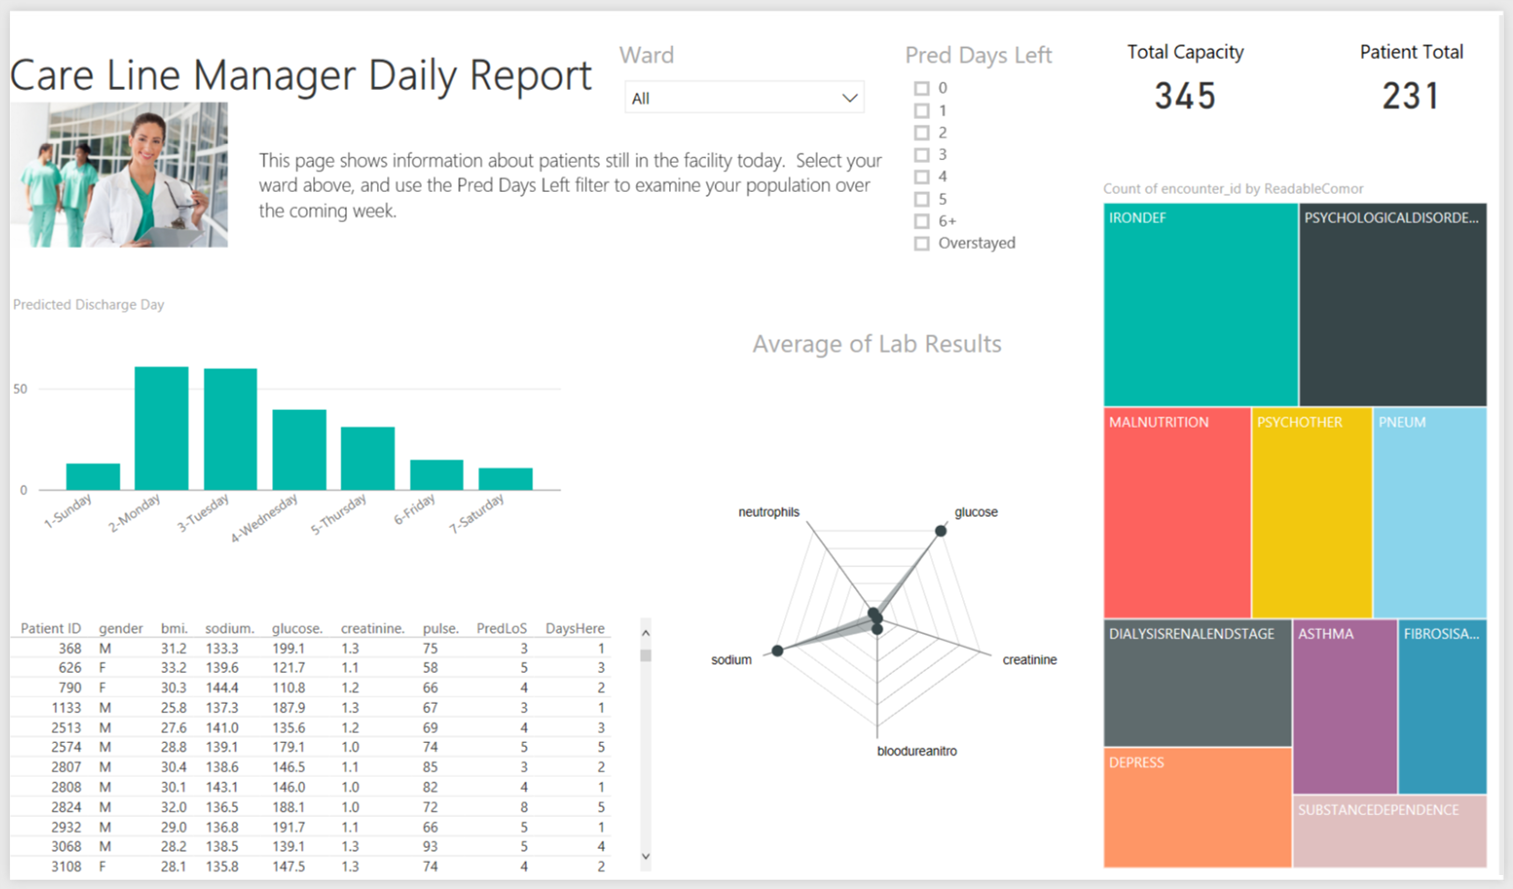

This screenshot's page, from the dashboard's own definition file:
{"tool":"powerbi","page":{"name":"Care Line Manager","canvas":[1280,720],"ordinal":1},"visuals":[{"type":"textbox","box":[73.9,0,497.6,77.5],"z":1},{"type":"card","fields":{"Values":["CountNonNull(ScordData.encounter_id)"]},"box":[712.1,0,266.8,117.2],"z":2},{"type":"columnChart","fields":{"Category":["ScordData.WeekDayName"],"Y":["CountNonNull(ScordData.Patient ID)"]},"box":[1.5,186.3,766.5,286.3],"z":3},{"type":"RadarChart1446119667547","fields":{"Y":["Avg(LabsBlowout.value)"],"Category":["LabsBlowout.variable"]},"box":[771.5,156.7,505,386.6],"z":5},{"type":"table","fields":{"Values":["ScordData.Patient ID","ScordData.Age","ScordData.gender","ScordData.weight","ScordData.bmi","ScordData.cholesterol","ScordData.diaBP","ScordData.sysBP","ScordData.sodium","ScordData.hemoglobin","ScordData.glucose","ScordData.creatinine"]},"box":[0,506.4,768,210.6],"z":5},{"type":"treemap","fields":{"Group":["comorsBlowout.ReadableComor"],"Values":["Count(comorsBlowout.encounter_id)"]},"box":[777,562.5,497.6,153.2],"z":7},{"type":"card","fields":{"Values":["CountNonNull(ScordData.encounter_id)"]},"box":[971.7,0,304.7,110],"z":8},{"type":"image","box":[0,18,72.1,36.1],"z":9},{"type":"card","fields":{"Values":["ScordData.MaxDate"]},"box":[298.4,80.3,175.7,69.7],"z":10},{"type":"slicer","fields":{"Values":["ScordData.IsWeekendHoldover"]},"box":[540.8,4.5,175.7,90.9],"z":12},{"type":"textbox","box":[260.5,81.8,60.6,50],"z":13},{"type":"card","fields":{"Values":["ScordData.OneWeekAgo"]},"box":[92.4,80.3,183.3,71.2],"z":14}]}

Visuals, with their boxes on the page's 1280x720 design canvas (x1, y1, x2, y2). These are canvas units, not pixel positions in the 1513x889 screenshot, which may show the page scaled, cropped or inside an application window:
textbox: left=74, top=0, right=572, bottom=78
card - CountNonNull(ScordData.encounter_id): left=712, top=0, right=979, bottom=117
columnChart - ScordData.WeekDayName x CountNonNull(ScordData.Patient ID): left=2, top=186, right=768, bottom=473
RadarChart1446119667547 - Avg(LabsBlowout.value) x LabsBlowout.variable: left=772, top=157, right=1276, bottom=543
table - ScordData.Patient ID x ScordData.Age: left=0, top=506, right=768, bottom=717
treemap - comorsBlowout.ReadableComor x Count(comorsBlowout.encounter_id): left=777, top=562, right=1275, bottom=716
card - CountNonNull(ScordData.encounter_id): left=972, top=0, right=1276, bottom=110
image: left=0, top=18, right=72, bottom=54
card - ScordData.MaxDate: left=298, top=80, right=474, bottom=150
slicer - ScordData.IsWeekendHoldover: left=541, top=4, right=716, bottom=95
textbox: left=260, top=82, right=321, bottom=132
card - ScordData.OneWeekAgo: left=92, top=80, right=276, bottom=152
